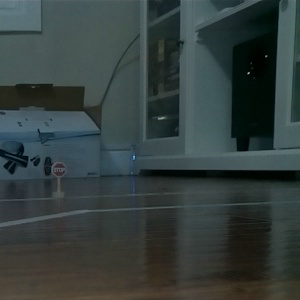stop sign: (48, 159, 70, 200)
